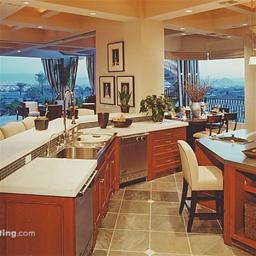Electrodomestico: (12, 166, 96, 253), (118, 135, 151, 187)
Lavaplatos: (57, 90, 106, 164)
